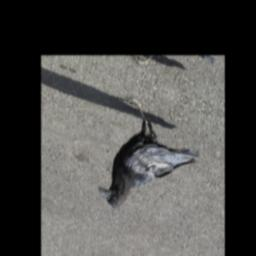Crow: (95, 90, 206, 238)
